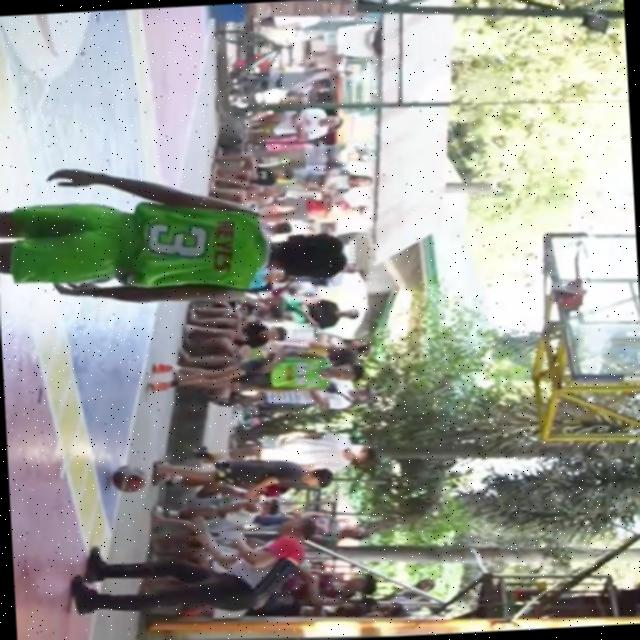ball: (97, 457, 154, 504)
